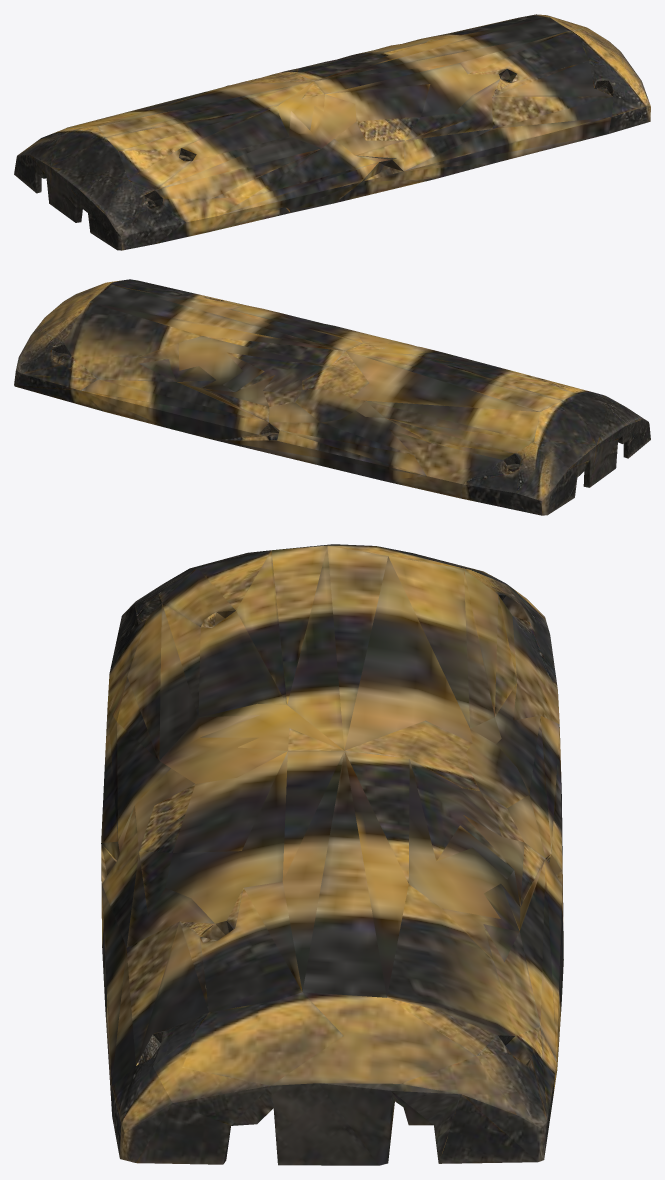
File: speed_bump_1000.glb
The picture shows the model from 3 angles, top to bottom: view 1: azimuth 30°, elevation 25°; view 2: azimuth 150°, elevation 25°; view 3: azimuth 270°, elevation 25°; orthographic projection. The views are drawn at different scales.
Visible parts, largest first — view 1: output_unwrapped; view 2: output_unwrapped; view 3: output_unwrapped.
Boxes of the visible parts, x1,y1,x2,y2 form: output_unwrapped: (14,14,650,250); output_unwrapped: (14,279,650,515); output_unwrapped: (101,544,563,1165).
Size of the model in its own units: 3.4 by 0.4047 by 1.25.
1 material, 1 textured.
